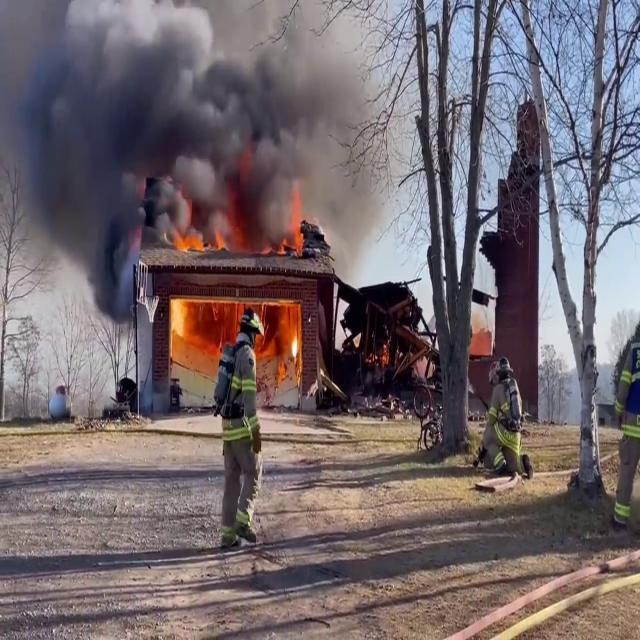Fire: (260, 296, 304, 383), (166, 210, 228, 252), (169, 301, 196, 348)
Smoke: (12, 0, 398, 266)
